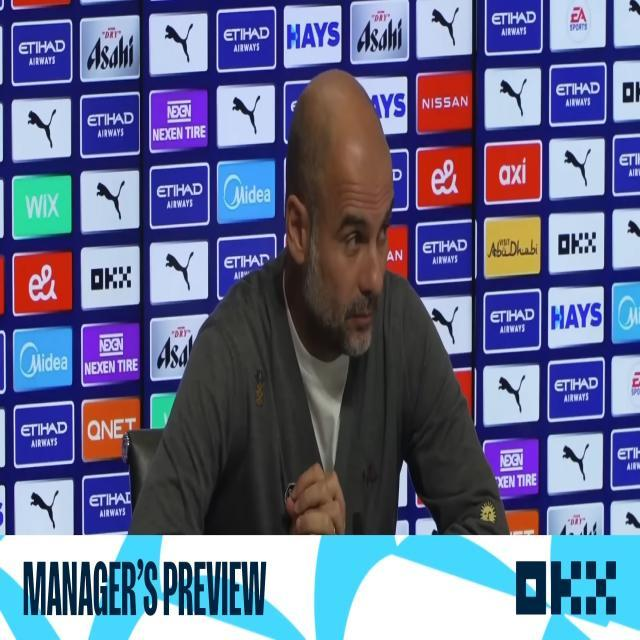Etihad Airways: (16, 31, 66, 76), (419, 231, 471, 272), (19, 417, 70, 454), (224, 19, 272, 58), (88, 488, 138, 522), (156, 178, 204, 212), (490, 6, 538, 40), (223, 248, 270, 282), (488, 304, 536, 336), (86, 108, 135, 139), (556, 79, 604, 110), (555, 374, 600, 405), (616, 442, 640, 485), (617, 148, 640, 182)
Puma: (429, 3, 463, 48), (30, 486, 61, 535), (27, 110, 60, 156), (165, 248, 198, 294), (93, 175, 126, 220), (163, 16, 193, 65), (498, 74, 530, 118), (497, 369, 527, 415), (562, 145, 594, 188), (231, 92, 262, 135), (560, 440, 590, 484), (431, 302, 459, 346), (622, 507, 640, 538), (624, 215, 640, 243), (628, 0, 640, 28)
